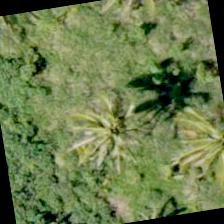Kelapa_Sawit: (56, 68, 158, 172)
